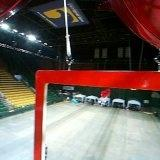Orange_Square_GShape: (35, 69, 159, 160)
